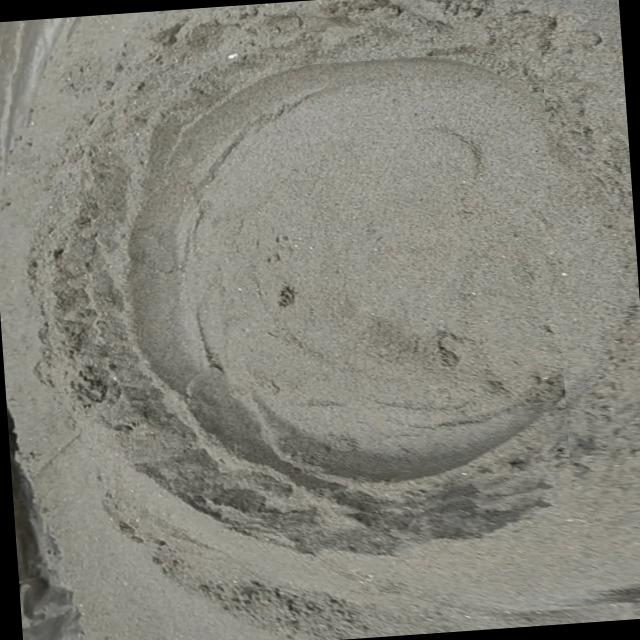C40: (121, 52, 555, 518)
